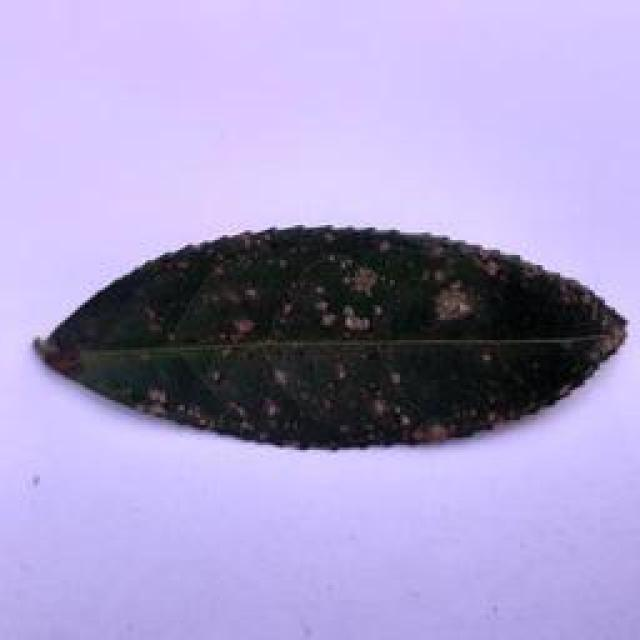Algal Leaf Spot: (35, 225, 640, 458)
